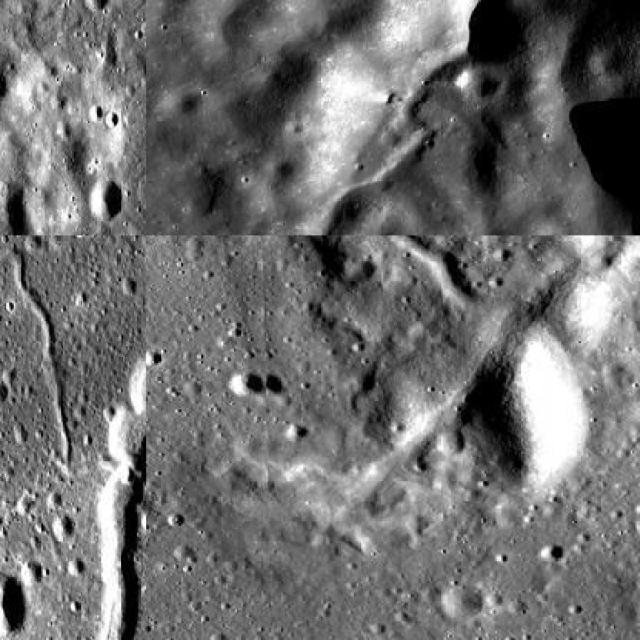rille: (336, 235, 632, 517), (297, 5, 495, 234), (94, 236, 144, 638), (0, 244, 75, 475), (378, 235, 508, 311)
